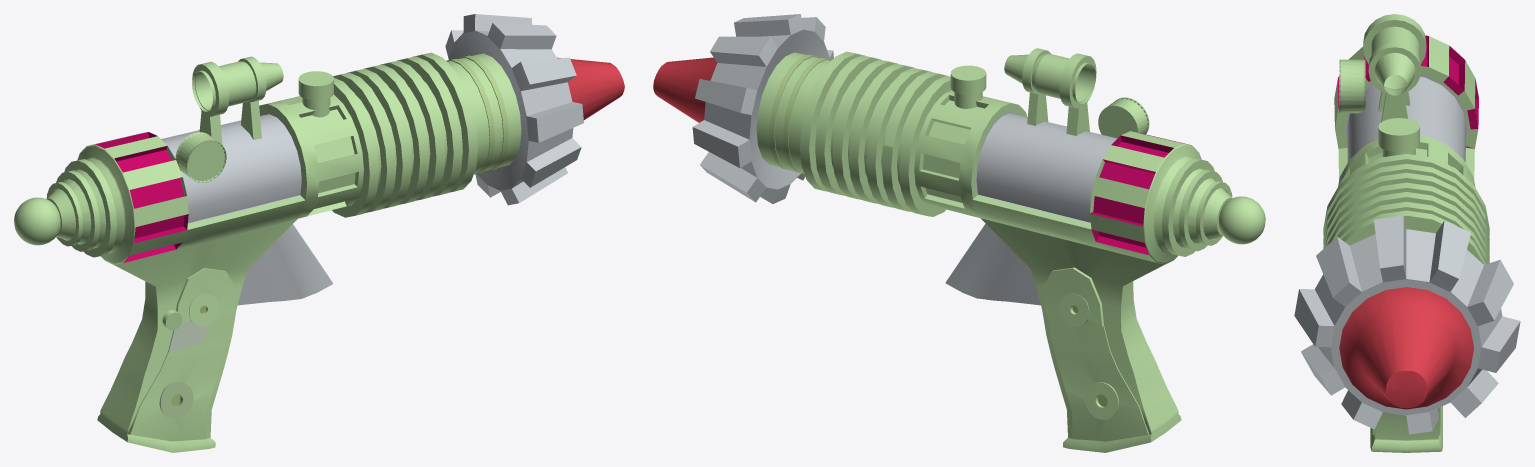
Rendered from gun.fbx.
The picture shows the model from 3 angles, left to right: view 1: azimuth 30°, elevation 25°; view 2: azimuth 150°, elevation 25°; view 3: azimuth 270°, elevation 25°; orthographic projection. The views are drawn at different scales.
Visible parts, largest first — view 1: gun; view 2: gun; view 3: gun.
Boxes of the visible parts, left/top/right/bottom form: gun: left=14, top=14, right=624, bottom=452; gun: left=653, top=14, right=1265, bottom=452; gun: left=1294, top=14, right=1520, bottom=452.
Bounding box in the file's own units: 27.86 × 16.71 × 7.78.
